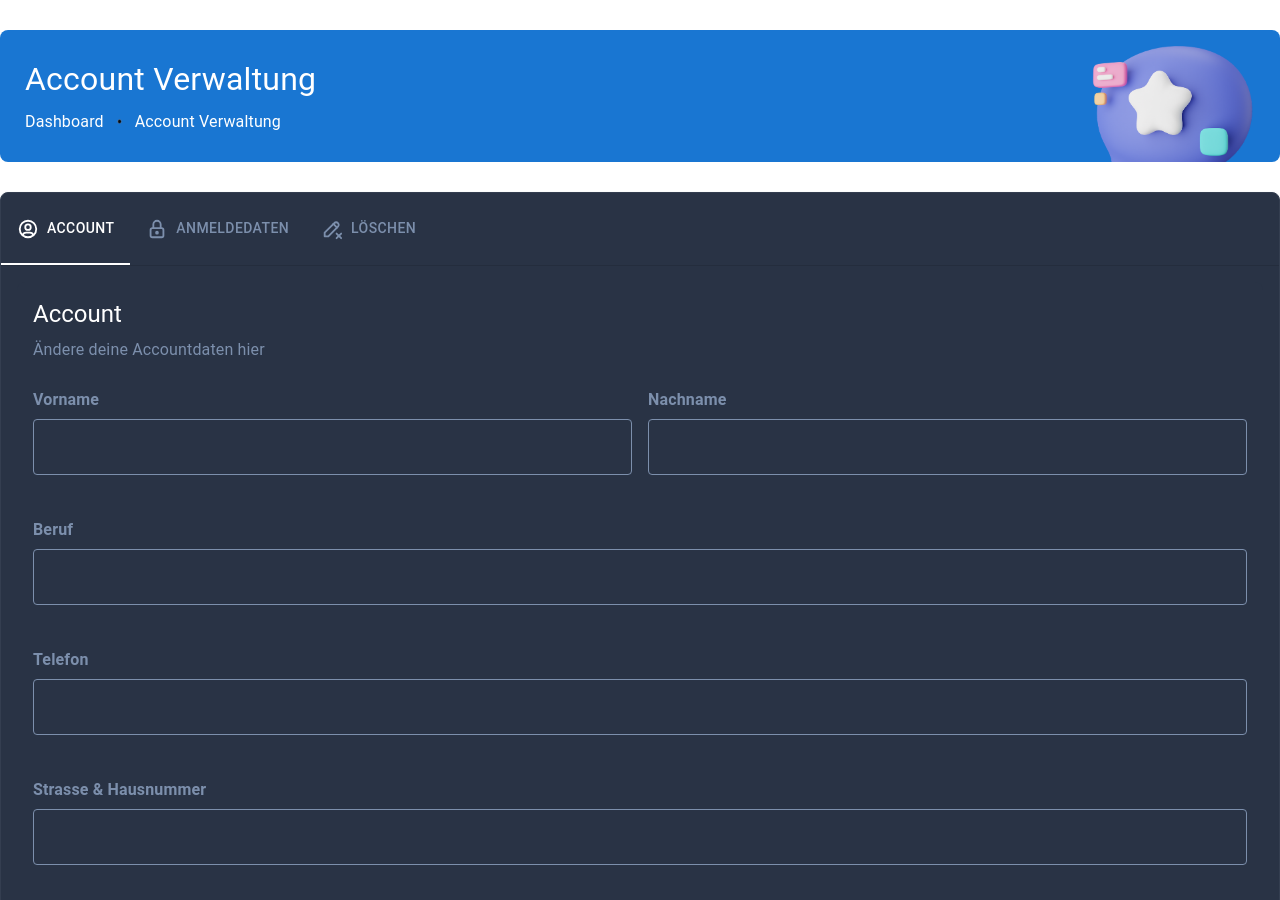
Test case: Account Component › switches to Credentials tab when clicked
Click the tab "Anmeldedaten" at (218, 228), box [130, 192, 305, 264]
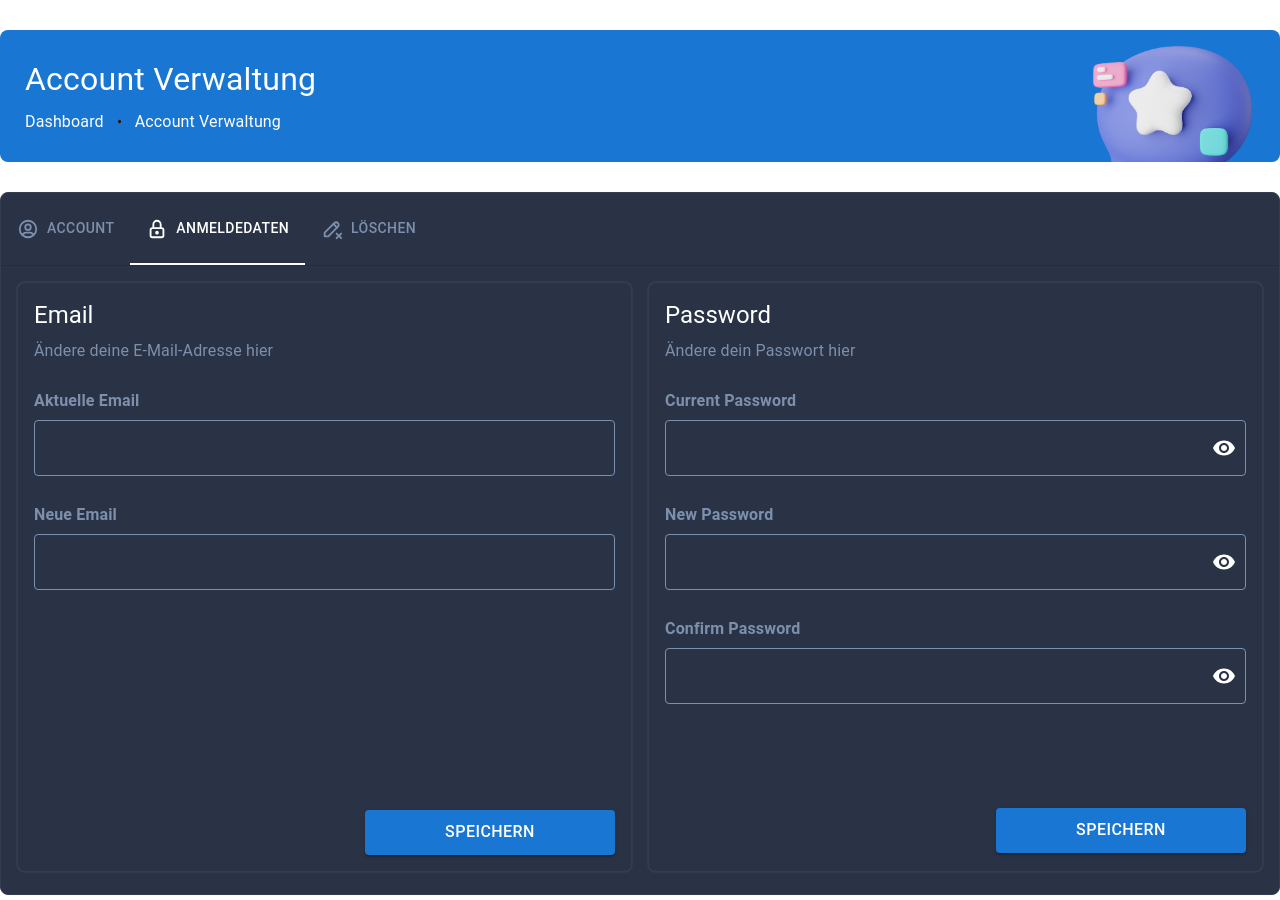
Check: the heading "Email" is shown, box [34, 300, 93, 328]
